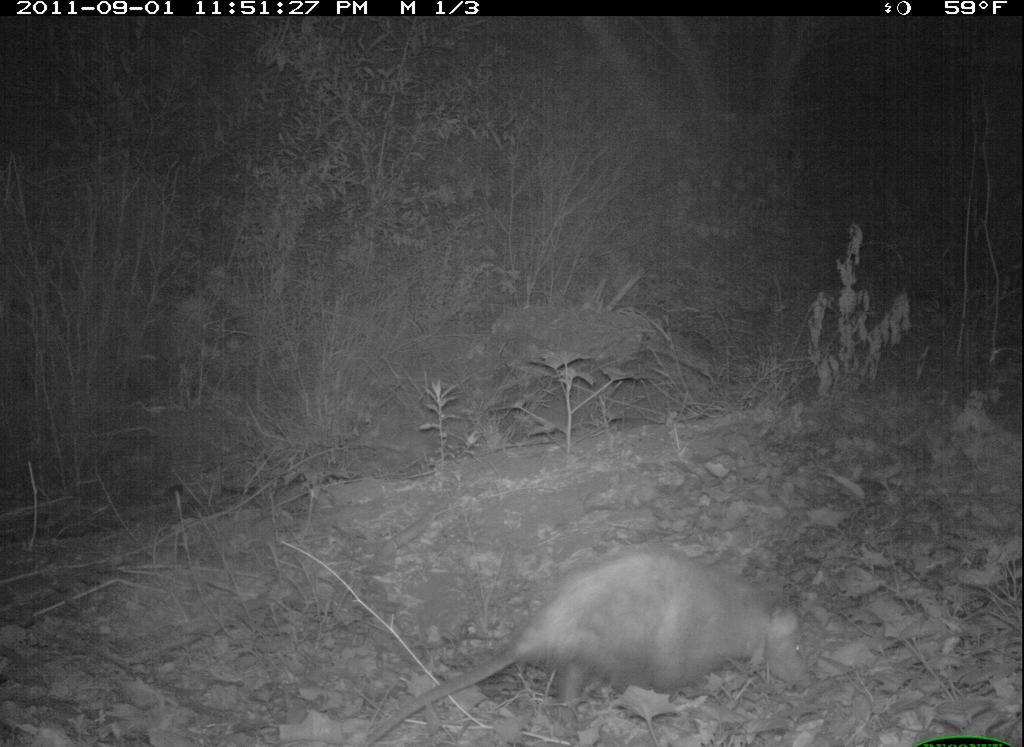opossum: (347, 550, 816, 743)
